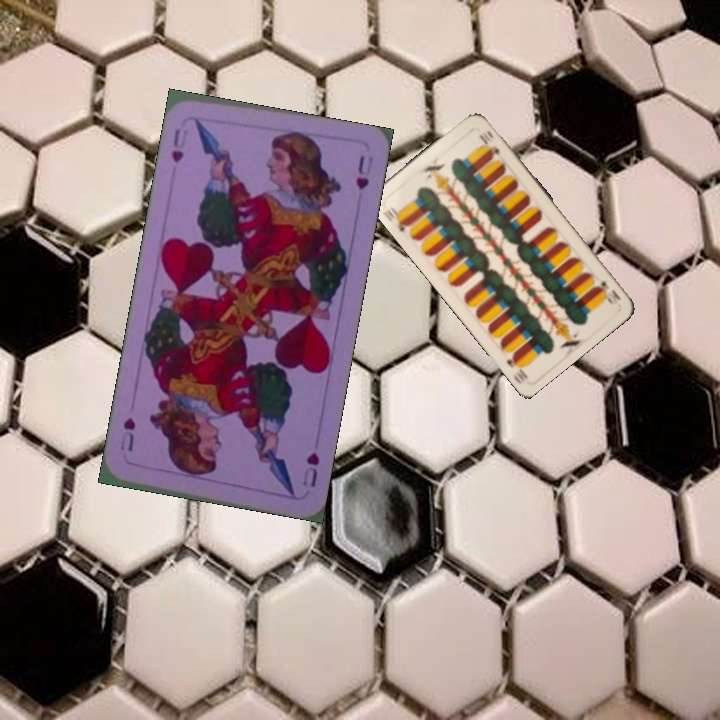E10: (379, 202, 412, 234), (593, 277, 624, 307)
HU: (298, 448, 322, 490), (167, 124, 186, 165)
